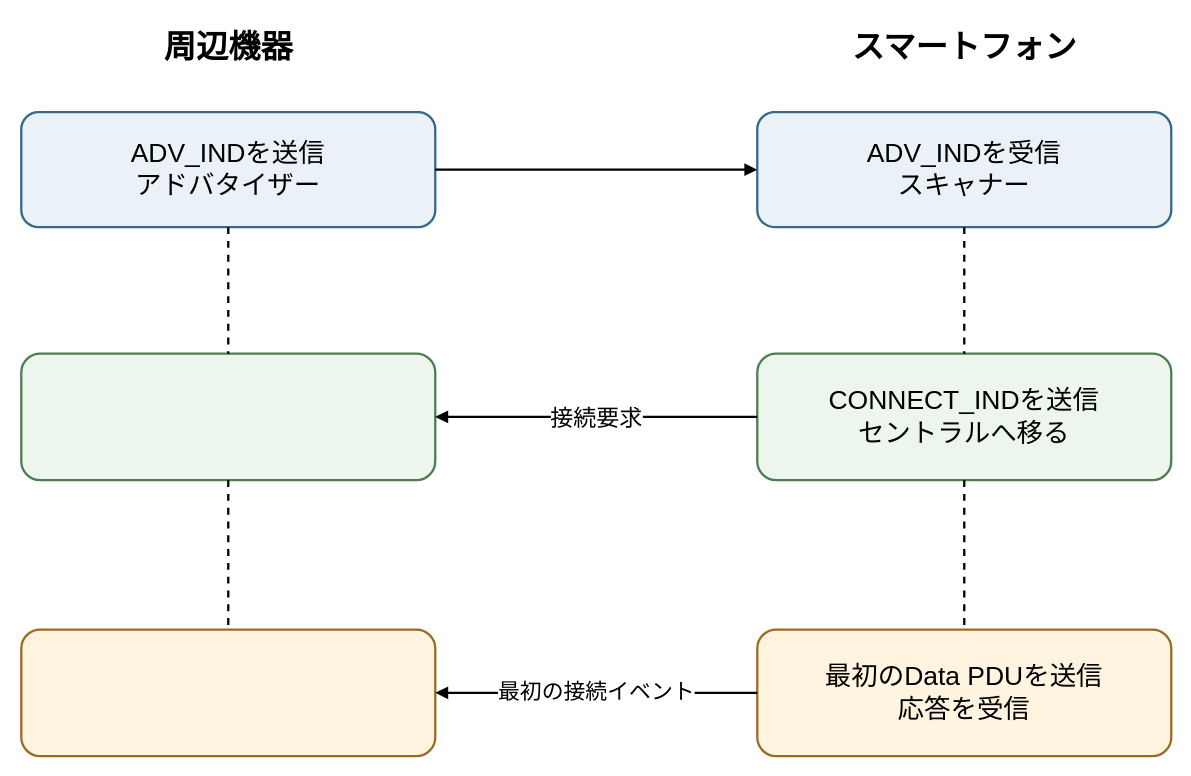
Some shapes in this 1191 by 776 pixel diagram are drawn without their labels. Here are the shapes that lost their labels. From the top down, the centre of each, then its label:
At (228,416): "CONNECT_INDを受信 ペリフェラルへ移る".
At (228,692): "最初のData PDUを受信 Data PDUで応答".
